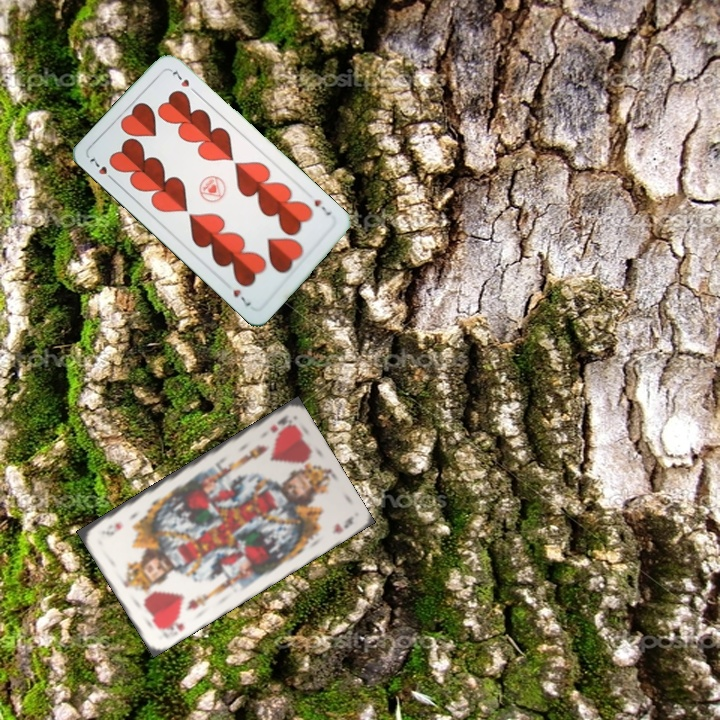H7: (85, 154, 118, 185), (310, 195, 334, 218)
HK: (155, 613, 187, 634), (266, 411, 291, 436)
